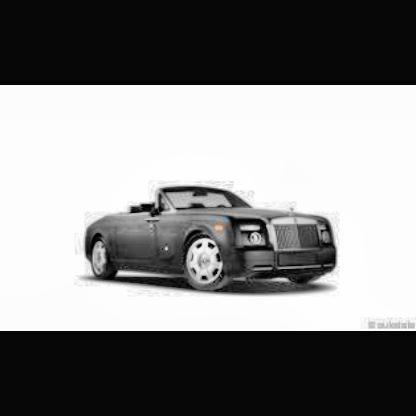Rolls-Royce Phantom Drophead Coupe Convertible 2012: (85, 185, 339, 294)
